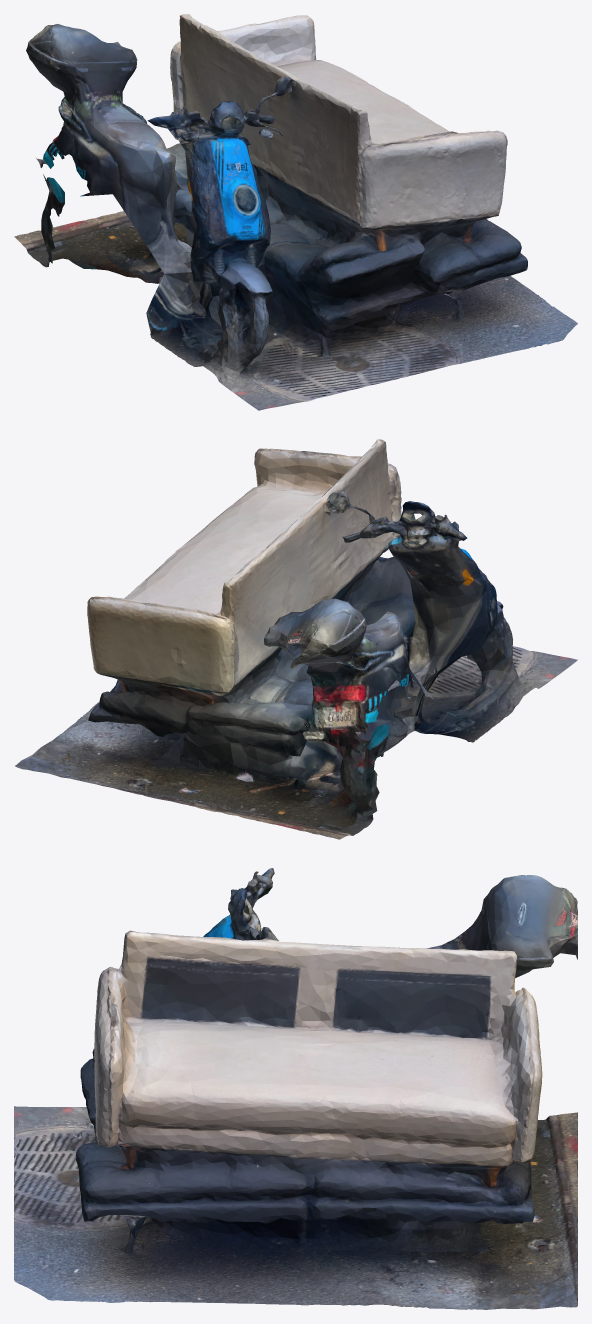
The model's file is render.glb.
3 renders of one model, top to bottom at view 1: azimuth 30°, elevation 25°; view 2: azimuth 150°, elevation 25°; view 3: azimuth 270°, elevation 25°, orthographic. The views are drawn at different scales.
Size of the model in its own units: 1.88 by 1.3 by 2.39.
1 material, 1 textured.
